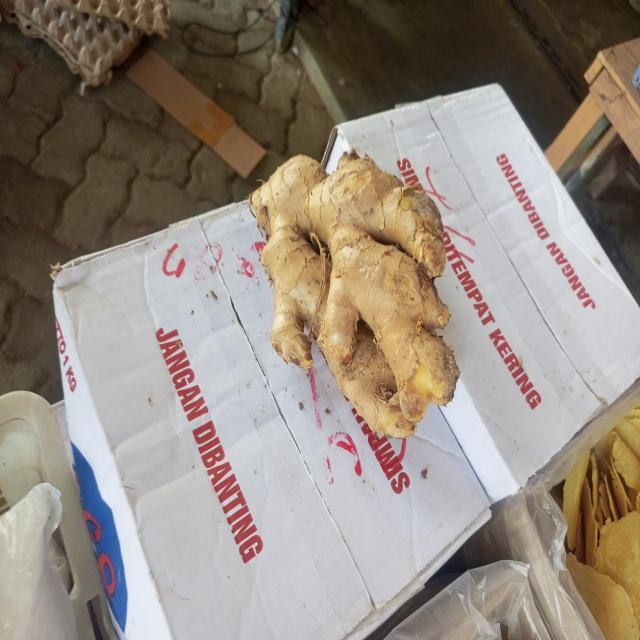ginger: (250, 157, 457, 434)
